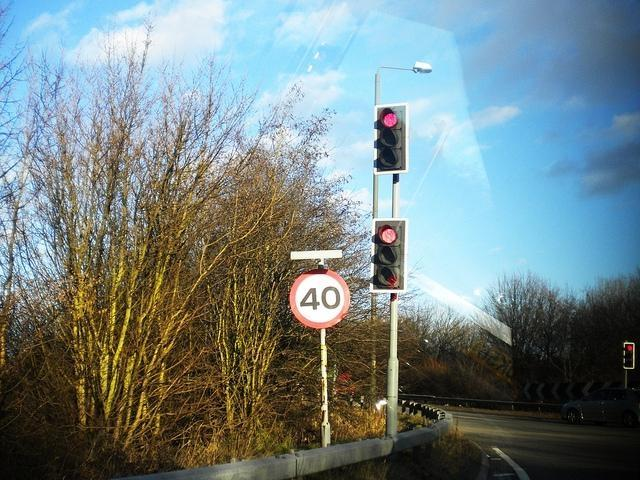car: (566, 390, 638, 430), (327, 362, 363, 406)
